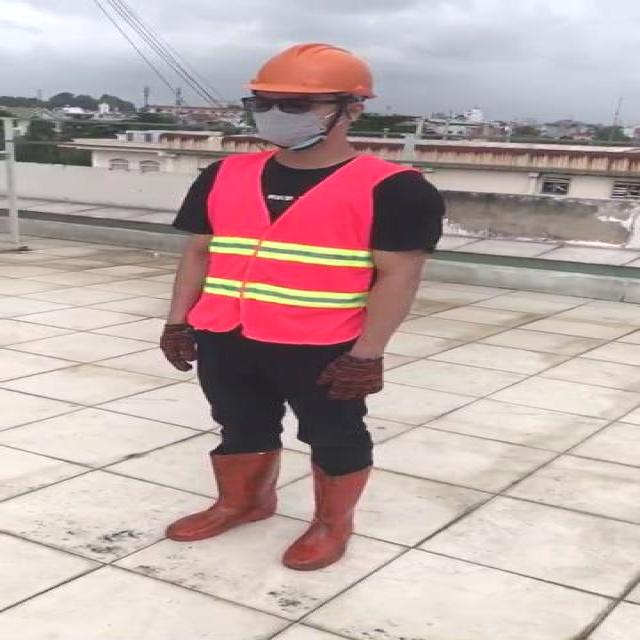boots: (167, 441, 286, 543), (283, 465, 373, 570)
face_mask: (241, 89, 340, 150)
glasses: (234, 92, 330, 120)
hand_glove: (318, 356, 391, 399), (160, 326, 196, 371)
head_helmet: (245, 42, 391, 99)
person: (145, 45, 426, 578)
vest: (190, 153, 375, 345)
